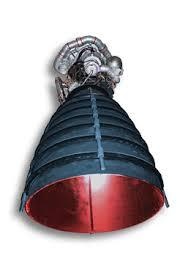thruster: (16, 92, 174, 236)
